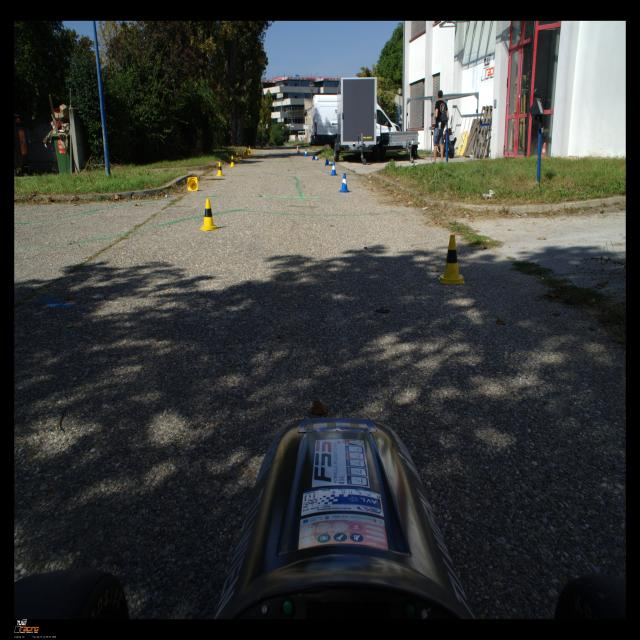blue_cone: (338, 173, 351, 192), (330, 162, 337, 176), (324, 158, 332, 166), (312, 154, 319, 160), (304, 149, 308, 157), (297, 147, 300, 154)
orange_cone: (296, 145, 298, 152), (249, 146, 250, 150)
yellow_cone: (438, 235, 465, 284), (200, 199, 219, 231), (187, 177, 198, 191), (216, 162, 224, 176), (234, 152, 240, 162), (230, 155, 235, 167), (243, 152, 247, 158), (246, 149, 249, 156), (248, 150, 251, 154)
